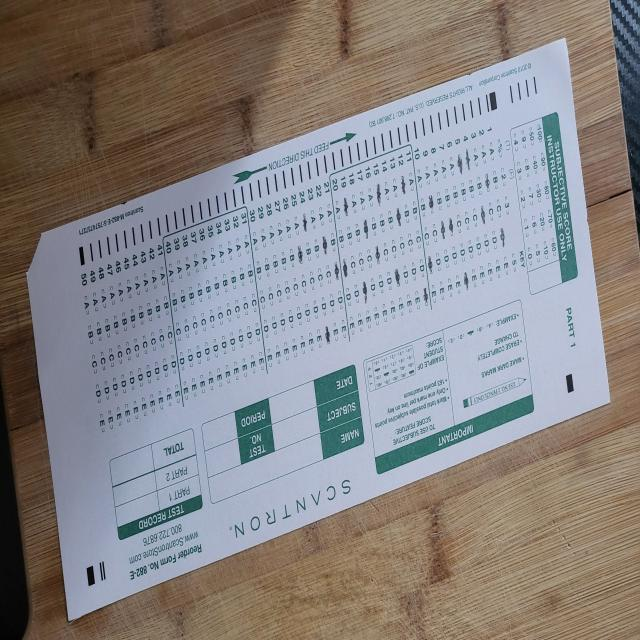scantron: (26, 36, 611, 622)
